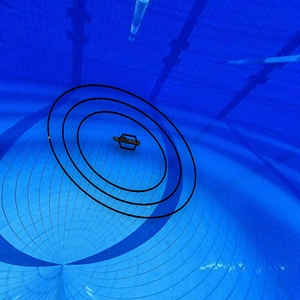circle: (39, 83, 214, 220)
submarine: (108, 132, 147, 154)
